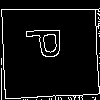P: (25, 25, 70, 61)
